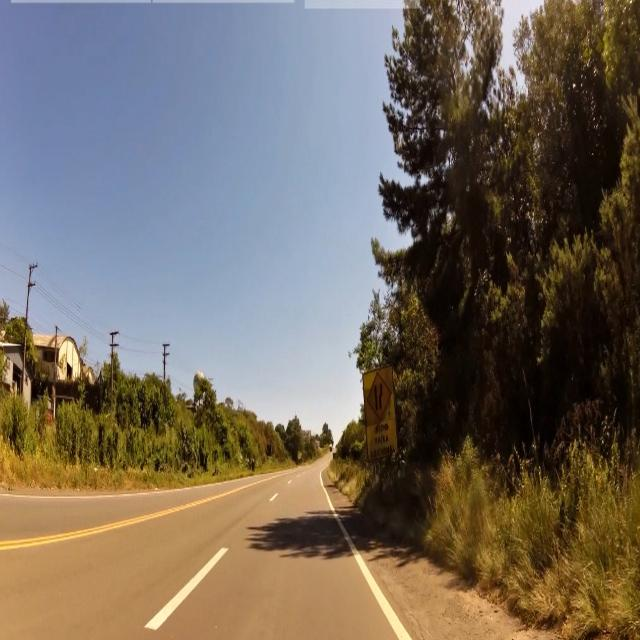A-21e: (367, 371, 392, 420)
